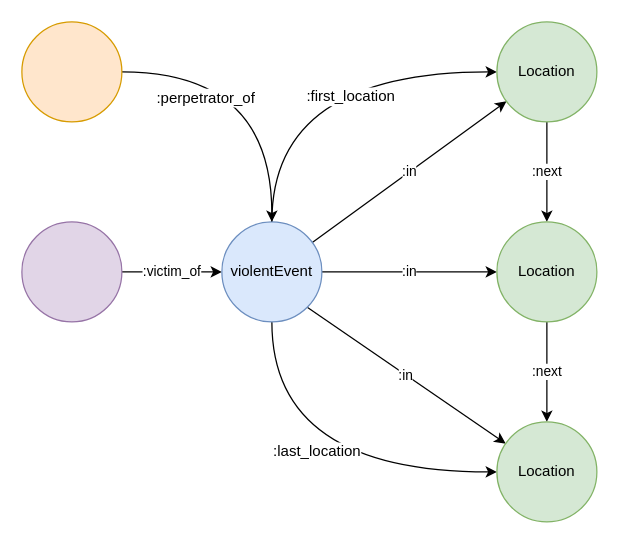
Image size: 619x544. Some labels were removed from this diagram. Here are the shapes that lost their labels. From the top down, the centre of each, then its label:
[71,71]: Perpetrator
[71,271]: Victim
